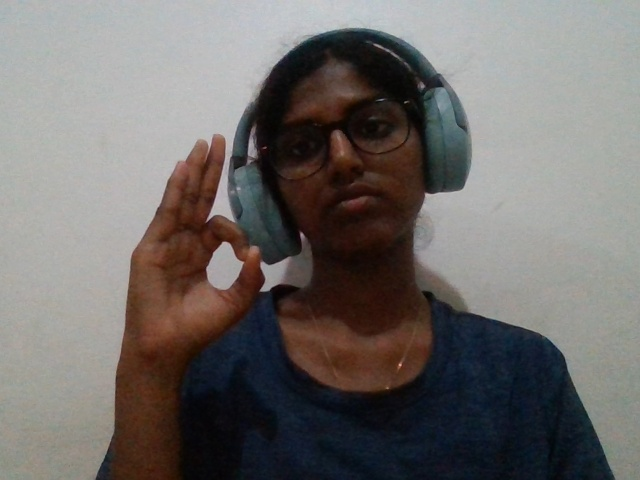F: (102, 126, 301, 478)
